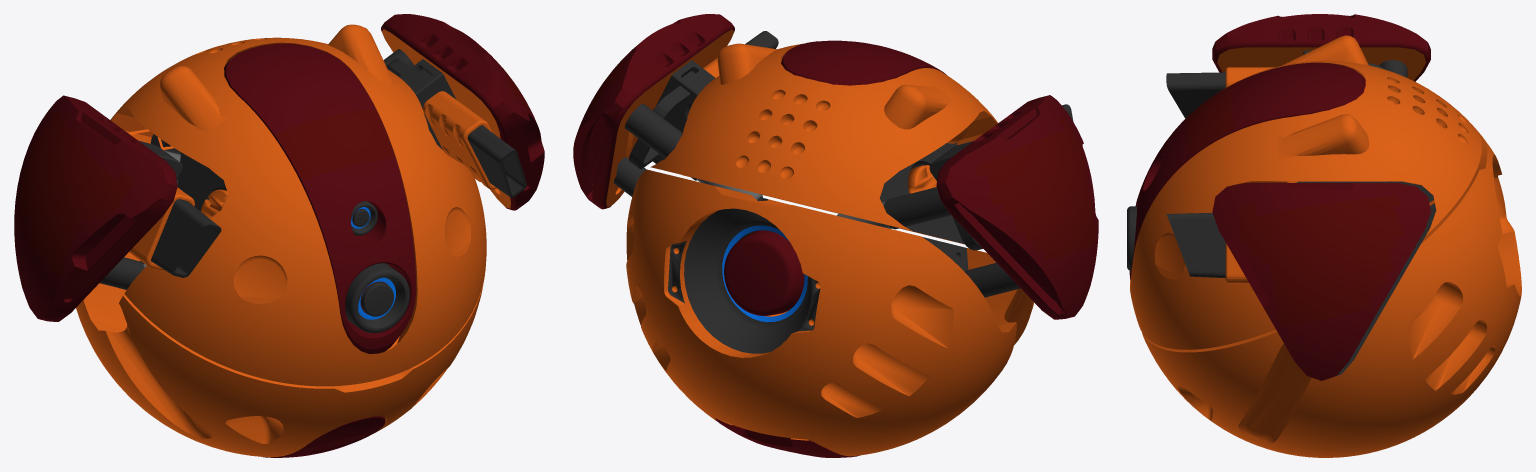
File: robot.glb
3 renders of one model, left to right at view 1: azimuth 30°, elevation 25°; view 2: azimuth 150°, elevation 25°; view 3: azimuth 270°, elevation 25°, orthographic. The views are drawn at different scales.
Visible parts, largest first — view 1: BODY_Roundcube.007; view 2: BODY_Roundcube.007; view 3: BODY_Roundcube.007.
Part boxes in pixels (x1,y1,x2,y2): BODY_Roundcube.007: (14,14,544,457); BODY_Roundcube.007: (573,14,1098,457); BODY_Roundcube.007: (1127,14,1521,457).
Bounding box in the file's own units: 1.18 × 0.8796 × 0.8652.
